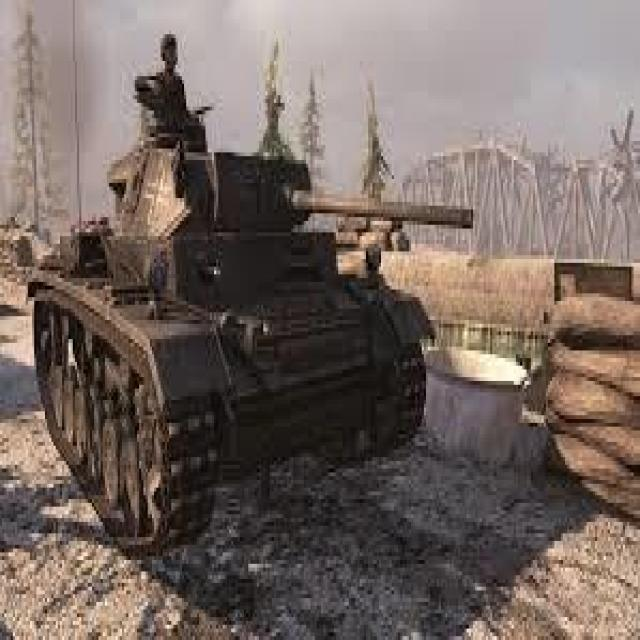Tanks: (23, 139, 480, 558)
